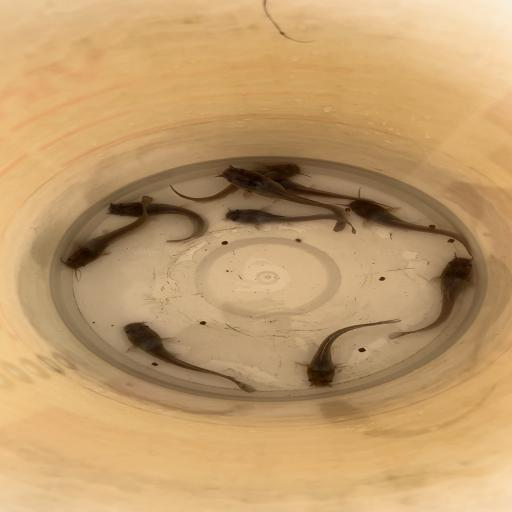lele: (117, 320, 259, 393), (212, 165, 353, 232), (386, 252, 477, 342), (344, 195, 476, 256), (60, 195, 154, 273), (301, 318, 402, 388), (167, 163, 304, 203), (104, 201, 212, 244), (222, 205, 358, 235), (274, 178, 397, 210)
